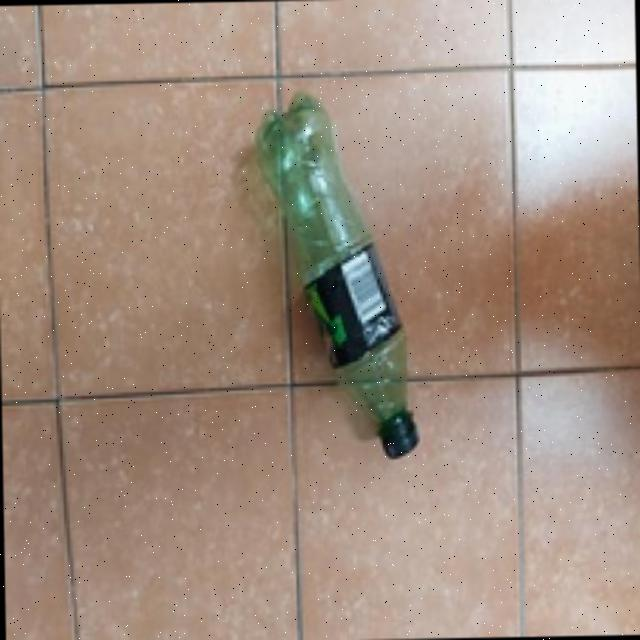bottle: (241, 84, 435, 471)
label: (289, 256, 415, 366)
